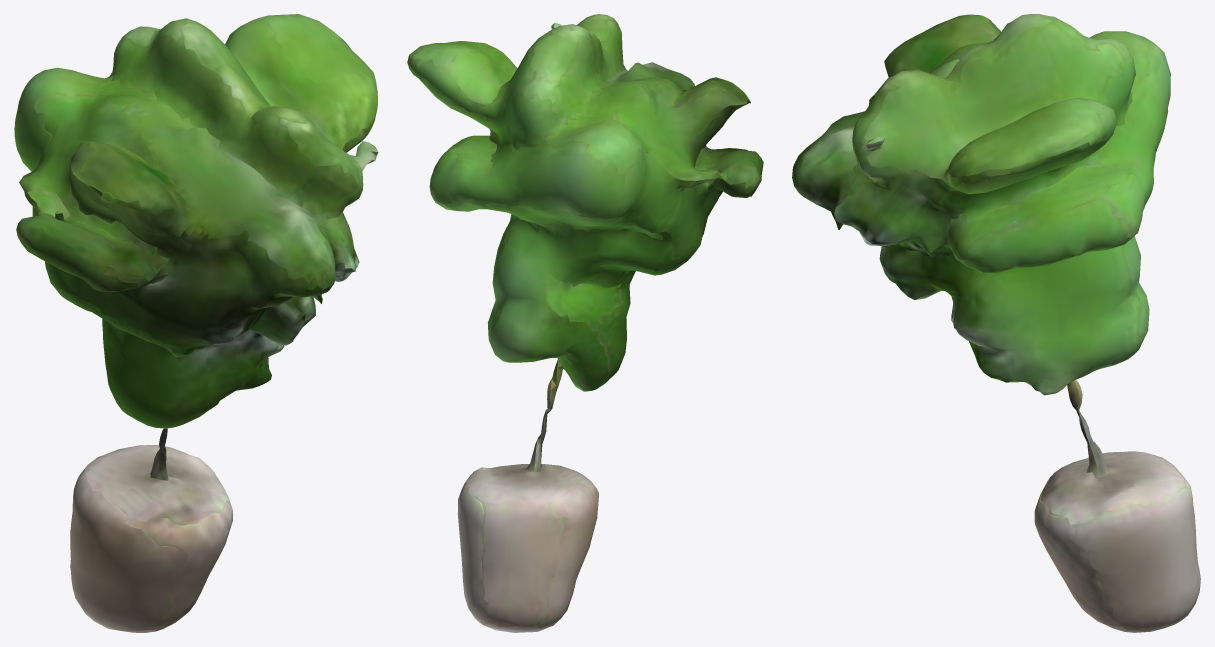
File: 25_flower_arrangement.glb
The picture shows the model from 3 angles, left to right: view 1: azimuth 30°, elevation 25°; view 2: azimuth 150°, elevation 25°; view 3: azimuth 270°, elevation 25°; orthographic projection. The views are drawn at different scales.
Parts seen in each view (by area): view 1: 25_flower_arrangement; view 2: 25_flower_arrangement; view 3: 25_flower_arrangement.
Boxes of the visible parts, x1,y1,x2,y2 form: 25_flower_arrangement: (14,14,378,632); 25_flower_arrangement: (407,14,763,632); 25_flower_arrangement: (792,14,1200,632).
Bounding box in the file's own units: 1.28 × 2.15 × 1.31.
1 material, 1 textured.
